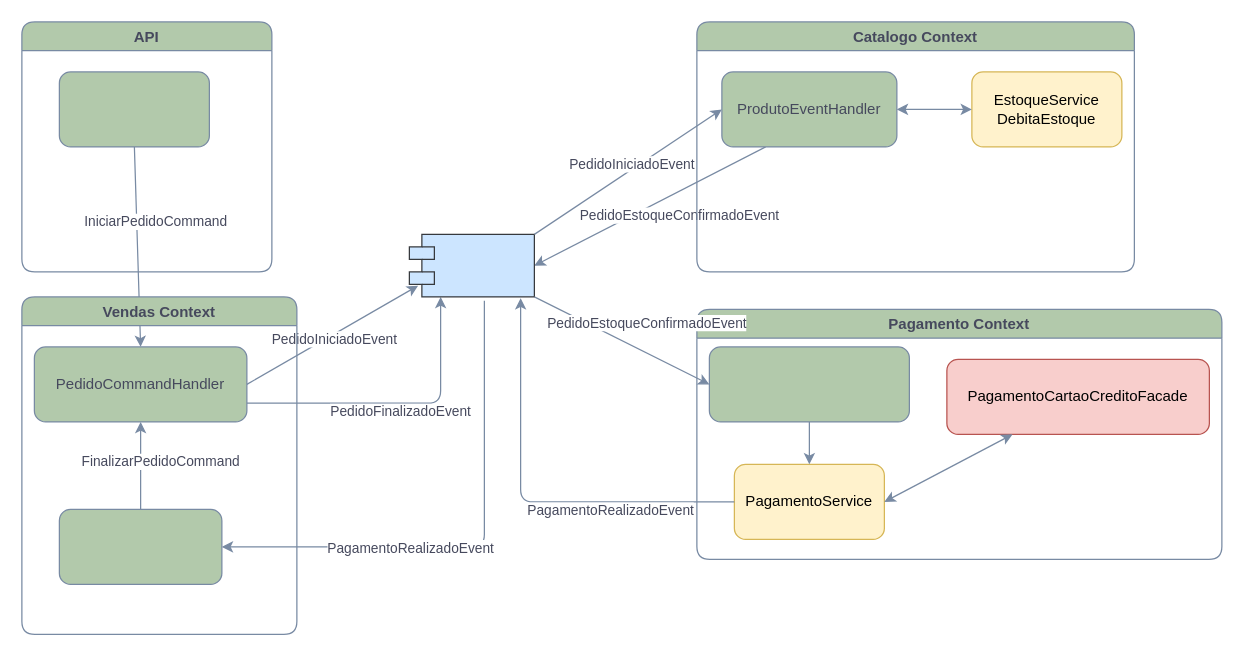
Image size: 1244x656. Some labels were removed from this diagram. The centre of each missing label's shape, as x and y in pixels:
"Controller IniciarPedido" goes at [133,109].
"Core" goes at [471,265].
"PagamentoEventHandler" goes at [808,384].
"PedidoEventHandler" goes at [140,546].
